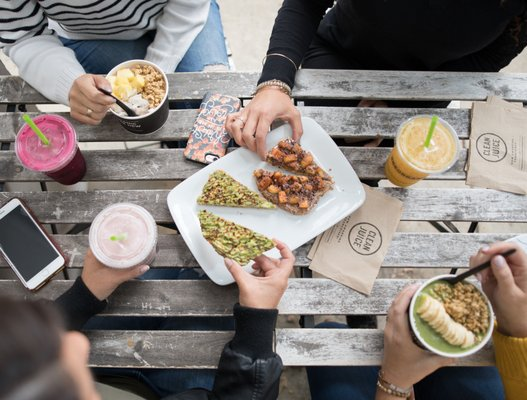sushi: (409, 275, 497, 359), (104, 60, 169, 134), (89, 202, 159, 270)
